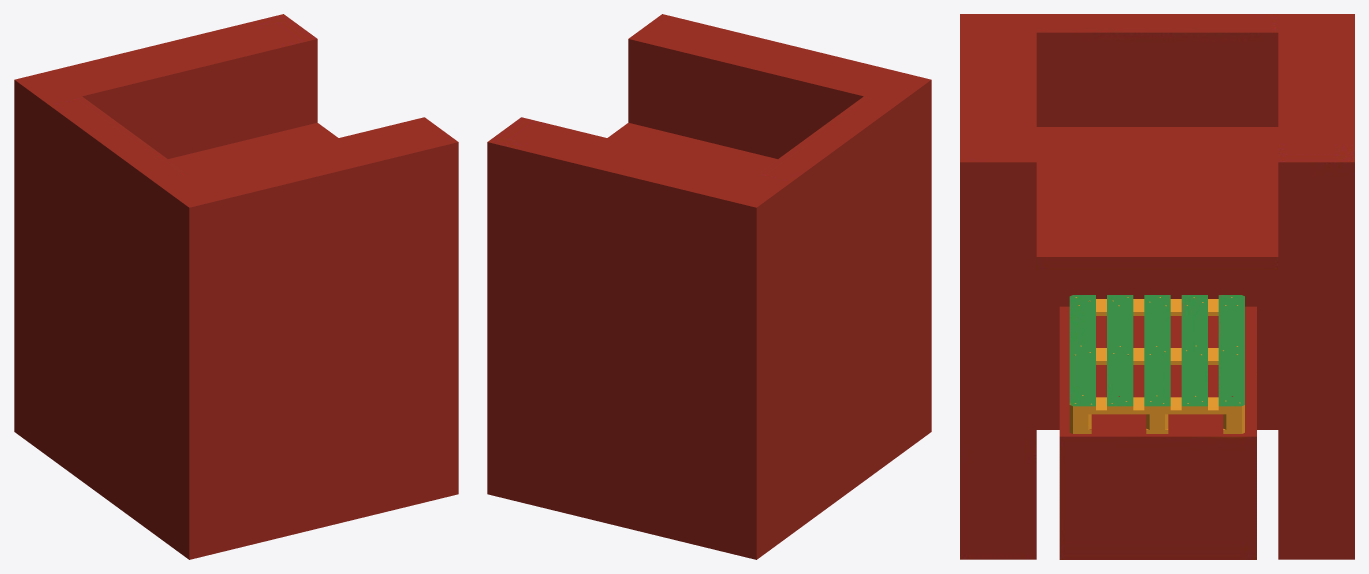
File: usecase3_meshed_2strati.dae
3 renders of one model, left to right at view 1: azimuth 30°, elevation 25°; view 2: azimuth 150°, elevation 25°; view 3: azimuth 270°, elevation 25°, orthographic. The views are drawn at different scales.
Parts seen in each view (by area): view 1: usecase3_meshed_2strati; view 2: usecase3_meshed_2strati; view 3: usecase3_meshed_2strati.
Boxes of the visible parts, x1,y1,x2,y2 form: usecase3_meshed_2strati: (14, 14, 458, 559); usecase3_meshed_2strati: (487, 14, 931, 559); usecase3_meshed_2strati: (960, 14, 1354, 559).
Bounding box in the file's own units: 1.6 × 1.8 × 2.
